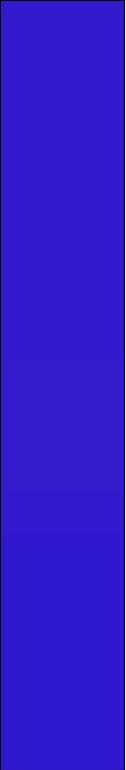safe: (13, 9, 114, 758)
